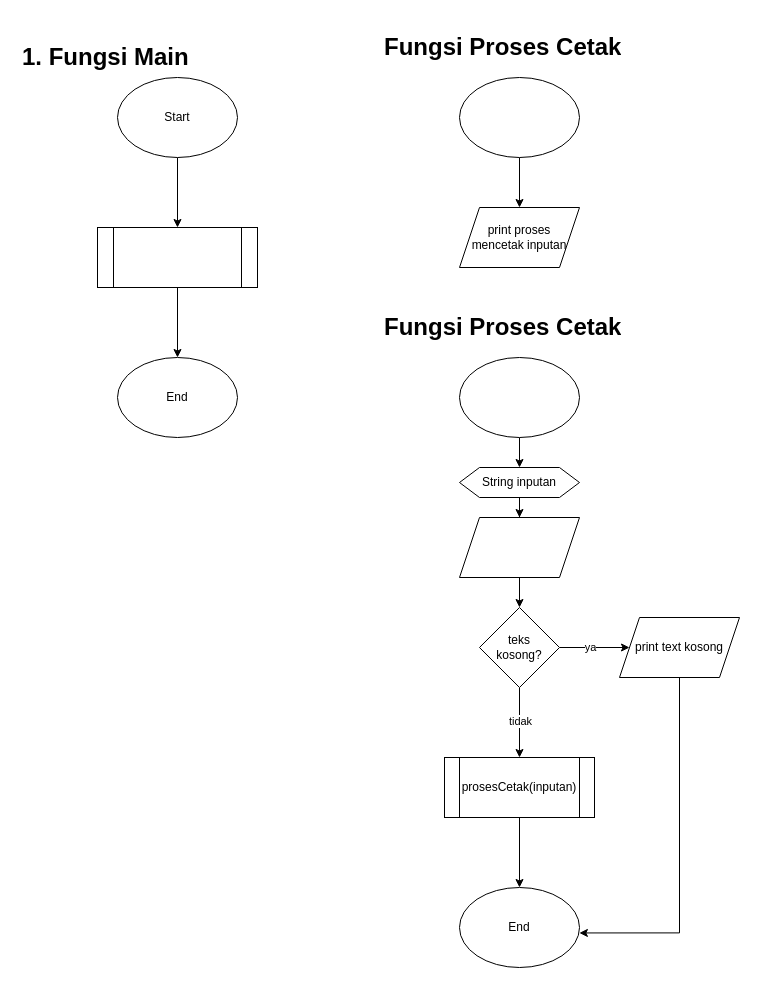
Image size: 757x985. Some labels were removed from this diagram. Here are the shapes that lost their labels. From the top down, the centre of each, then its label:
At point 519,117: "prosesCetak(String inputan)".
At point 177,257: "tulisCetakProgram();".
At point 519,397: "prosesInputan()".
At point 519,547: "input inputan".
